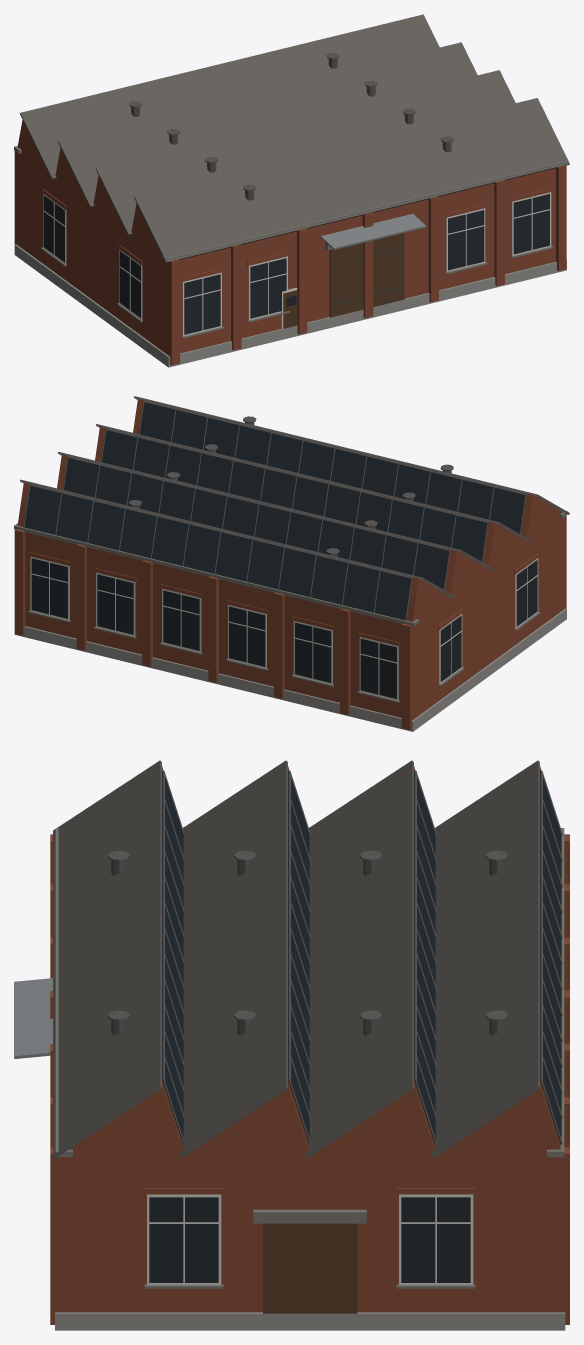
File: Scenery_Factory.fbx
The picture shows the model from 3 angles, top to bottom: view 1: azimuth 30°, elevation 25°; view 2: azimuth 150°, elevation 25°; view 3: azimuth 270°, elevation 25°; orthographic projection. The views are drawn at different scales.
Visible parts, largest first — view 1: Scenery_Factory_Mesh; view 2: Scenery_Factory_Mesh; view 3: Scenery_Factory_Mesh.
Part boxes in pixels (x1=…): Scenery_Factory_Mesh: x1=14, y1=14, x2=569, y2=367; Scenery_Factory_Mesh: x1=14, y1=396, x2=569, y2=731; Scenery_Factory_Mesh: x1=14, y1=760, x2=569, y2=1330.
Size of the model in its own units: 24.5 by 8.63 by 17.65.
